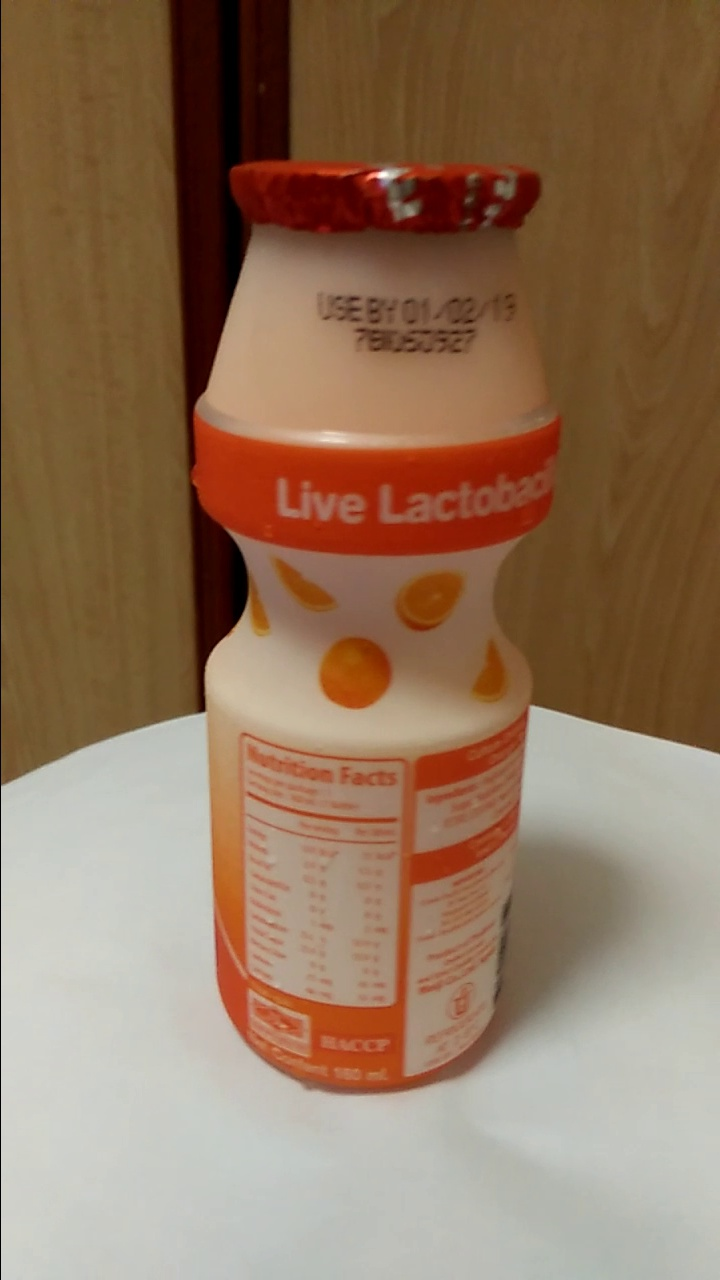milk: (213, 161, 521, 1088)
